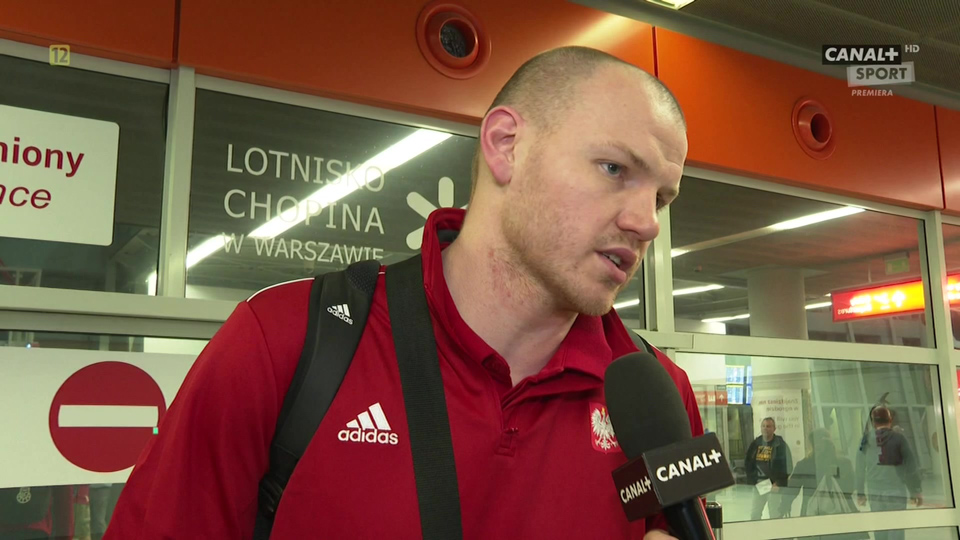Adidas: (339, 401, 401, 445), (326, 300, 356, 326)
